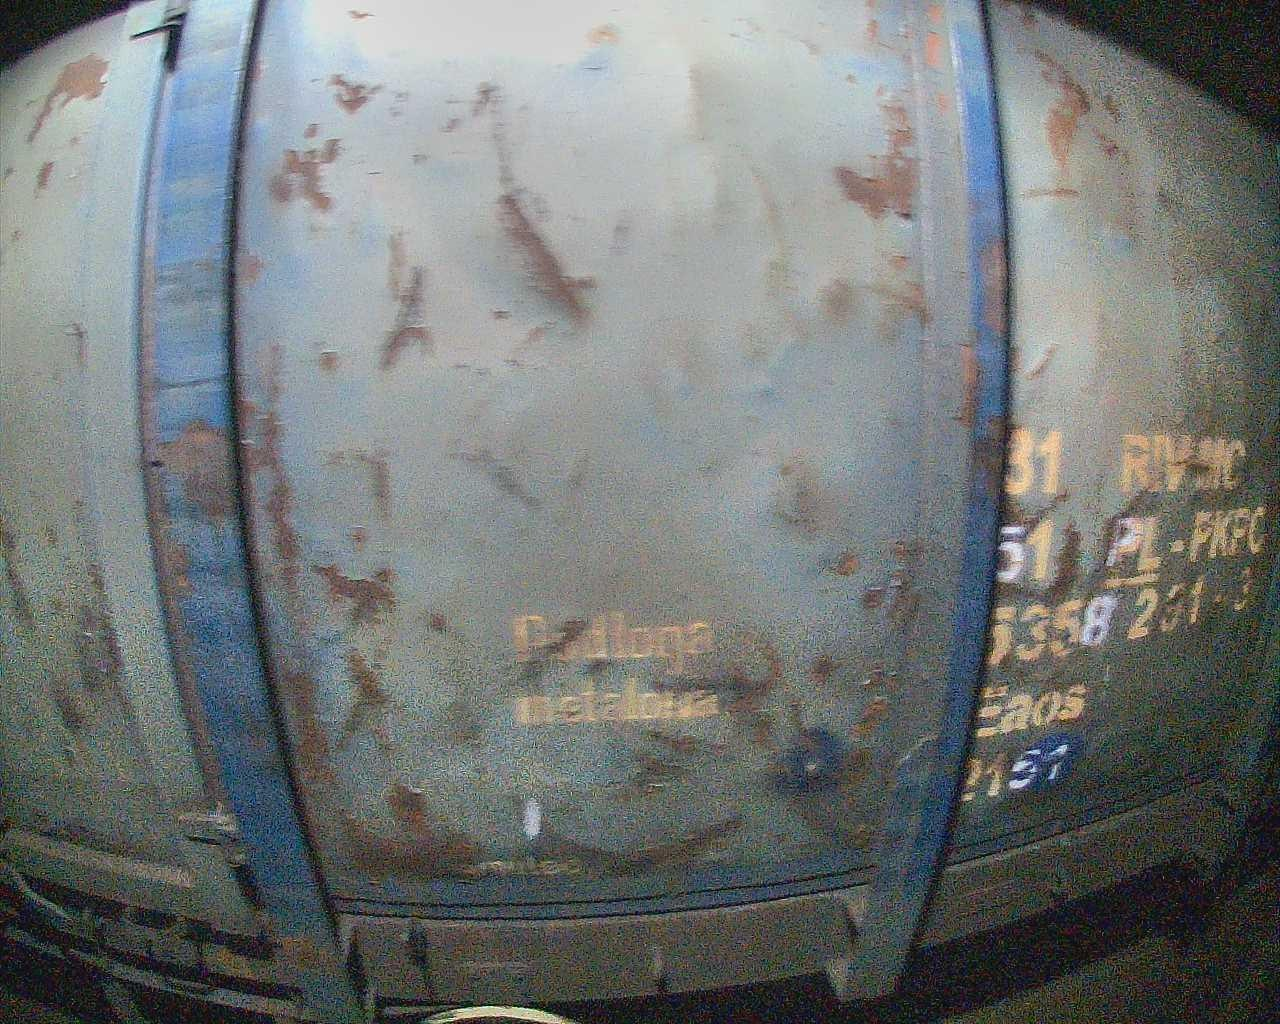UIC: (953, 415, 1276, 820)
